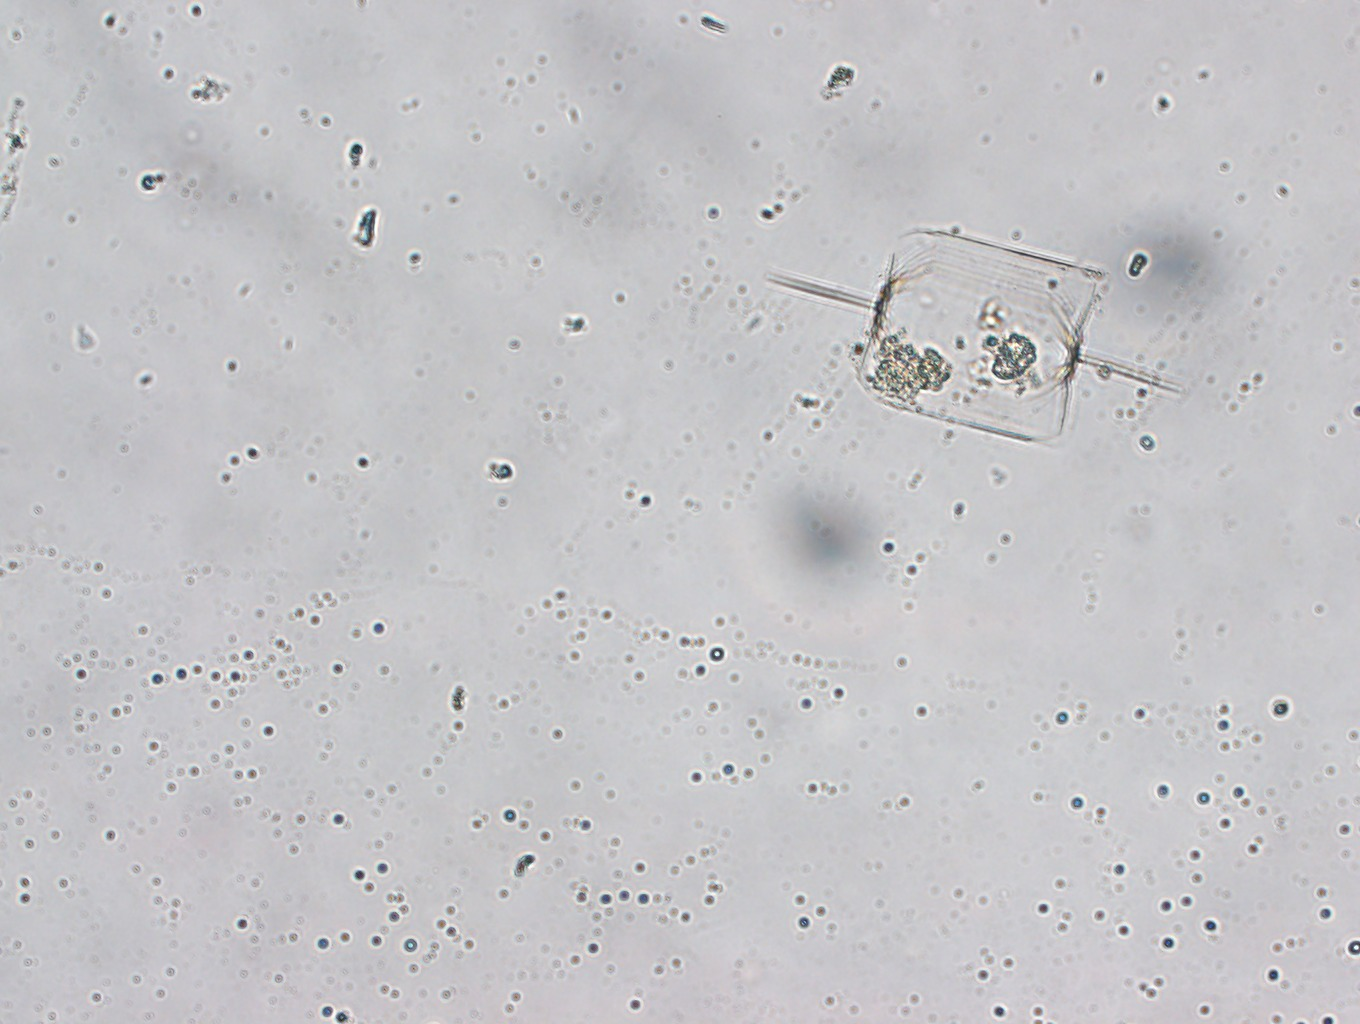ditylum: (764, 229, 1180, 444)
